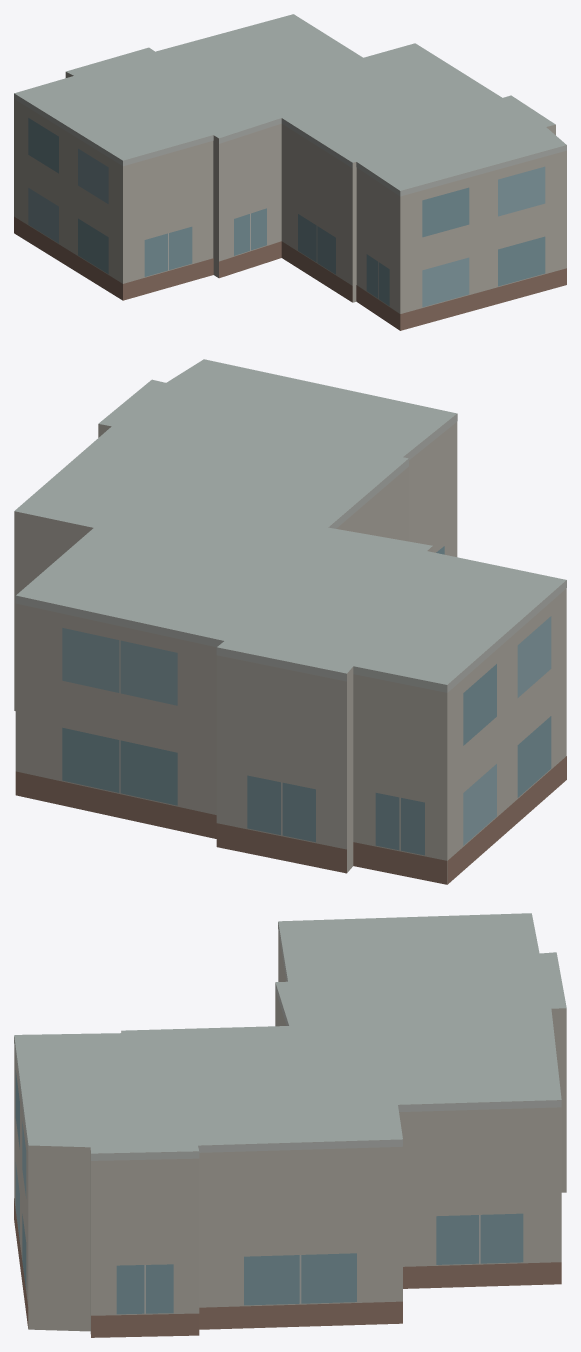
The model's file is survey-upis-32773063.glb.
The picture shows the model from 3 angles, top to bottom: view 1: azimuth 30°, elevation 25°; view 2: azimuth 150°, elevation 25°; view 3: azimuth 270°, elevation 25°; orthographic projection. The views are drawn at different scales.
Parts seen in each view (by area): view 1: survey-upis-32773063.tmp; view 2: survey-upis-32773063.tmp; view 3: survey-upis-32773063.tmp.
Boxes of the visible parts, left/top/right/bottom form: survey-upis-32773063.tmp: left=14, top=14, right=566, bottom=330; survey-upis-32773063.tmp: left=14, top=359, right=566, bottom=884; survey-upis-32773063.tmp: left=14, top=913, right=566, bottom=1337.
Size of the model in its own units: 17.09 by 6.1 by 16.6.
